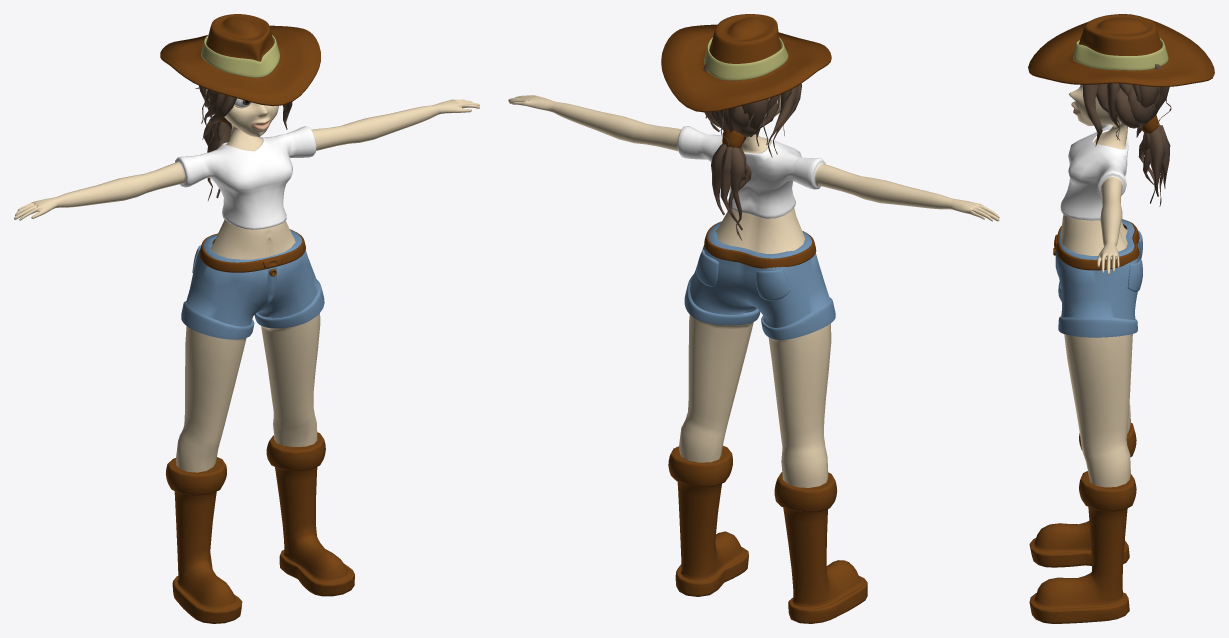
The model's file is karakter_3.fbx.
3 views of the same model, side by side, from view 1: azimuth 30°, elevation 25°; view 2: azimuth 150°, elevation 25°; view 3: azimuth 270°, elevation 25° (orthographic). The views are drawn at different scales.
Visible parts, largest first — view 1: Plane.003; view 2: Plane.003; view 3: Plane.003.
Boxes of the visible parts, bbox=[...] form: Plane.003: bbox=[14, 14, 479, 623]; Plane.003: bbox=[508, 14, 999, 623]; Plane.003: bbox=[1028, 14, 1214, 623].
Size of the model in its own units: 3.67 by 4.19 by 1.25.
